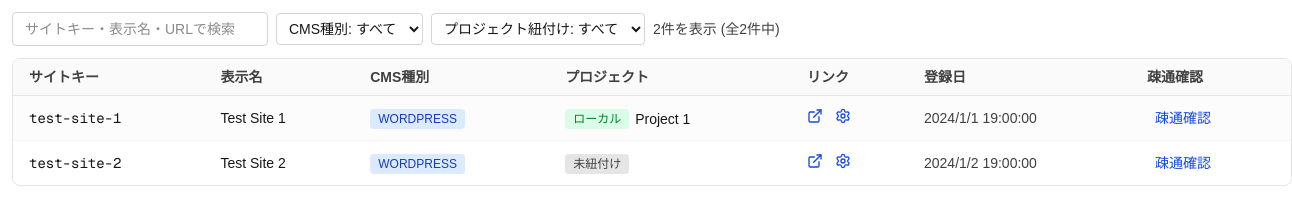
Test: SiteListTable › filters unbound projects only(issue #944: aria-label付きselectで絞り込む)
Select "未紐付けのみ" in the dropdown named "プロジェクト紐付け状況で絞り込む" at [538, 29], box top-left (431, 13), bottom-right (645, 45)
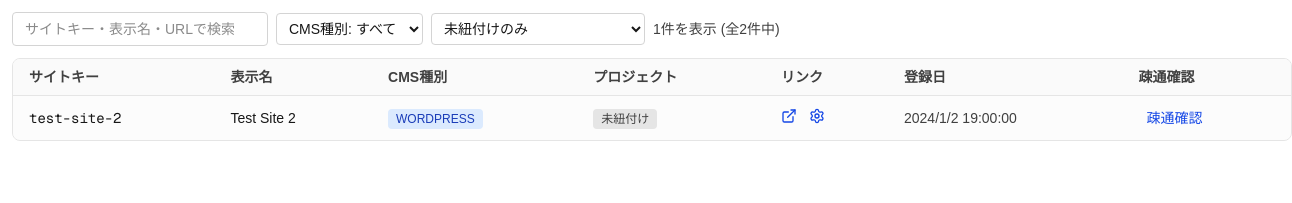
Expected: the text "Test Site 2" is shown, top-left (214, 96), bottom-right (372, 140)
Result: the text "Test Site 1" is gone
